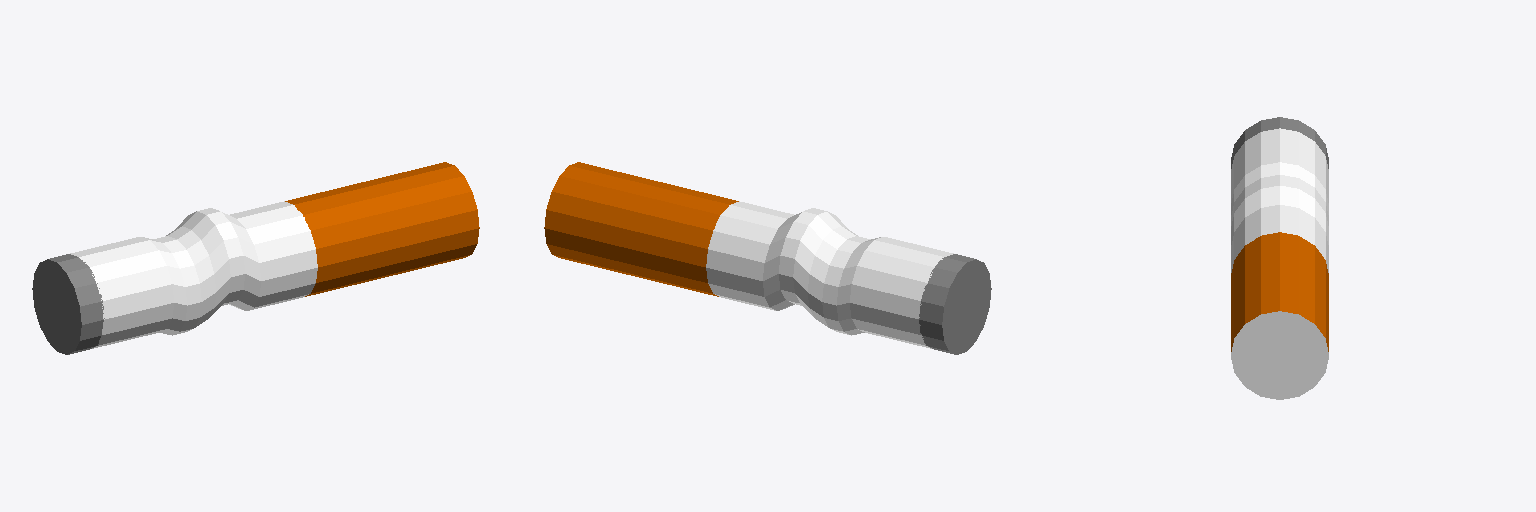
The model's file is Cigarret.obj.
3 renders of one model, left to right at view 1: azimuth 30°, elevation 25°; view 2: azimuth 150°, elevation 25°; view 3: azimuth 270°, elevation 25°, orthographic.
Parts seen in each view (by area): view 1: Cylinder, Cylinder.1, Cylinder.2; view 2: Cylinder, Cylinder.1, Cylinder.2; view 3: Cylinder.1, Cylinder, Cylinder.2.
Part boxes in pixels (left/top/right/bottom): Cylinder: left=70, top=201, right=317, bottom=348; Cylinder.1: left=285, top=162, right=479, bottom=296; Cylinder.2: left=32, top=254, right=104, bottom=354; Cylinder: left=706, top=201, right=953, bottom=348; Cylinder.1: left=544, top=162, right=738, bottom=296; Cylinder.2: left=919, top=254, right=991, bottom=354; Cylinder.1: left=1231, top=232, right=1328, bottom=399; Cylinder: left=1231, top=128, right=1328, bottom=272; Cylinder.2: left=1231, top=117, right=1328, bottom=168.
Bounding box in the file's own units: 20.47 × 5.24 × 4.4.